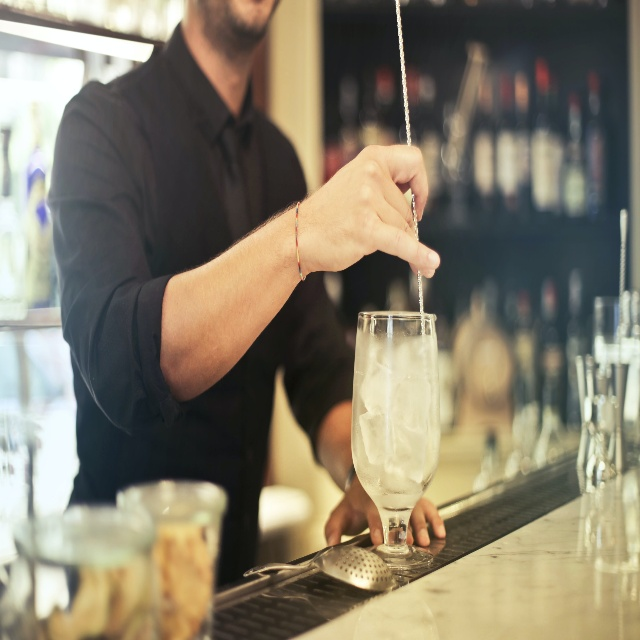Sin_guantes: (301, 144, 441, 279), (325, 476, 446, 546)
